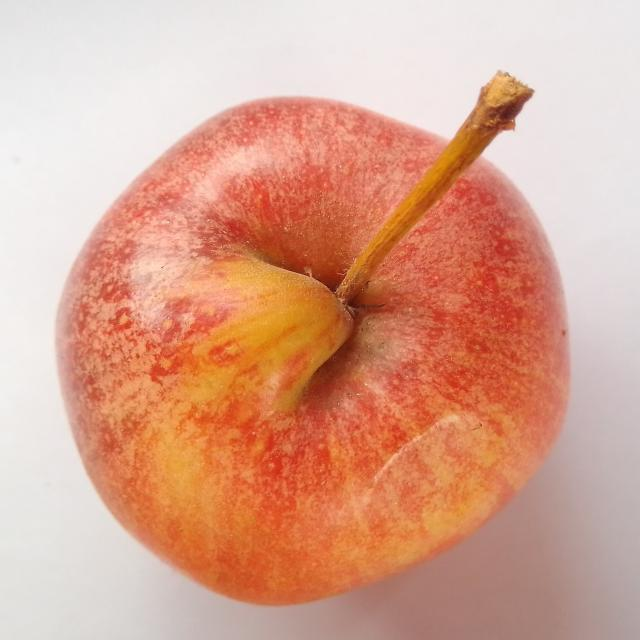Fresh Apple: (63, 95, 572, 603)
